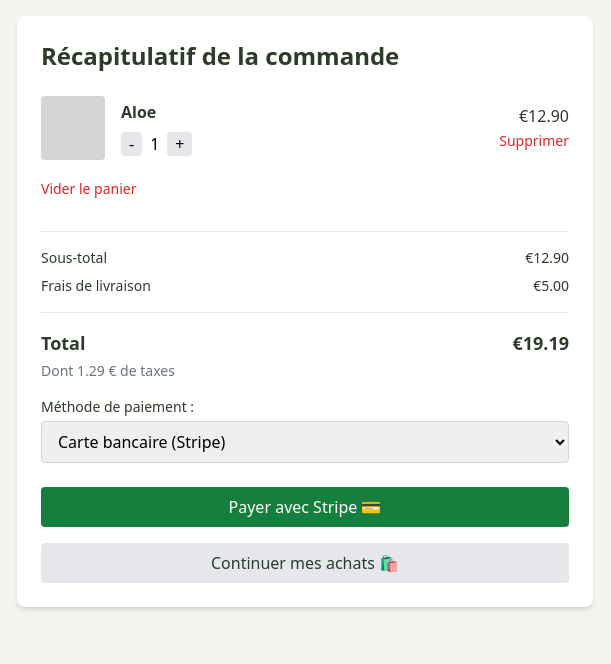
Test: demande login si pas de token et programme la redirection
Click the button "Payer avec Stripe 💳" at (305, 507), box x1=41 y1=487 x2=569 y2=527
Wait 2000 ms
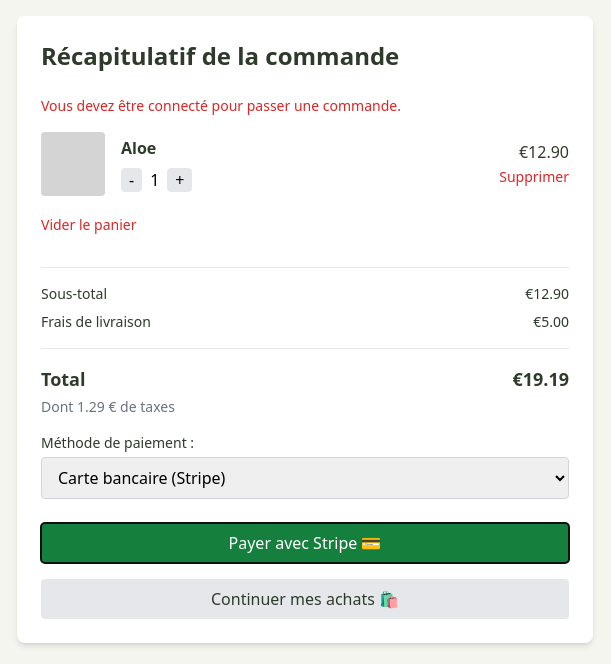
Expected: the text "Vous devez être connecté pour passer une commande." is shown, x1=41 y1=96 x2=401 y2=115
